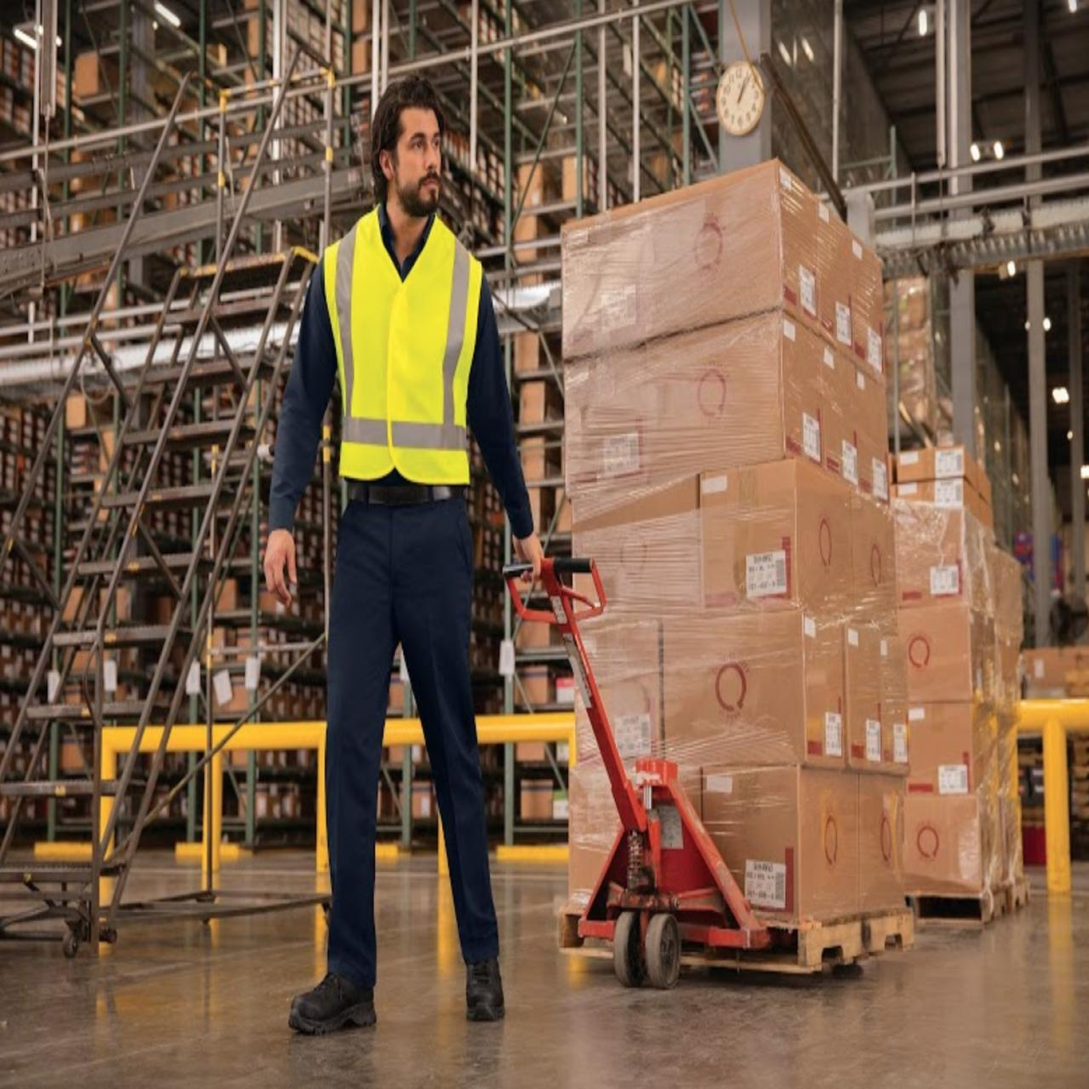Person: (232, 52, 559, 1052)
Safety_Vest: (318, 212, 483, 489)
